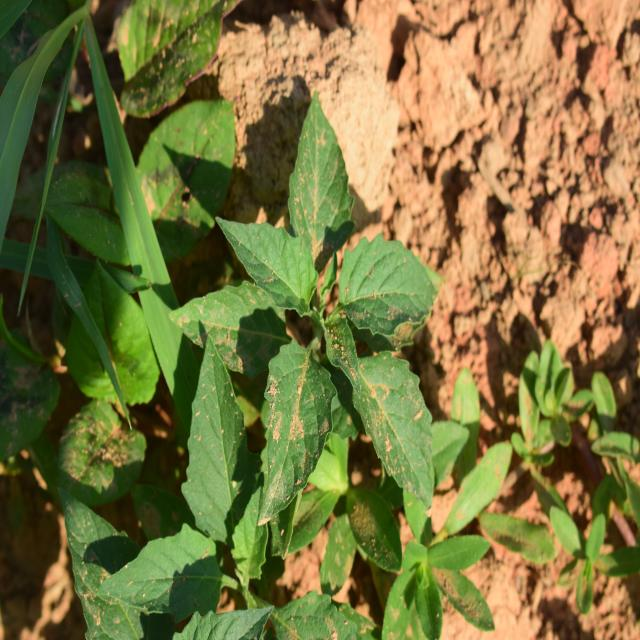Black_nightshade: (206, 121, 430, 513)
